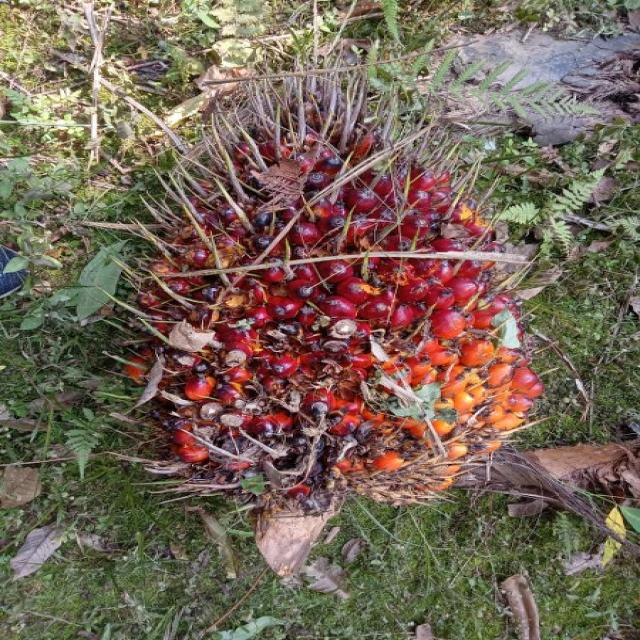fraksi 3: (98, 63, 578, 559)
